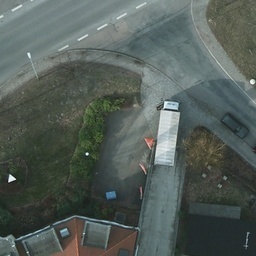car: (220, 114, 247, 138)
